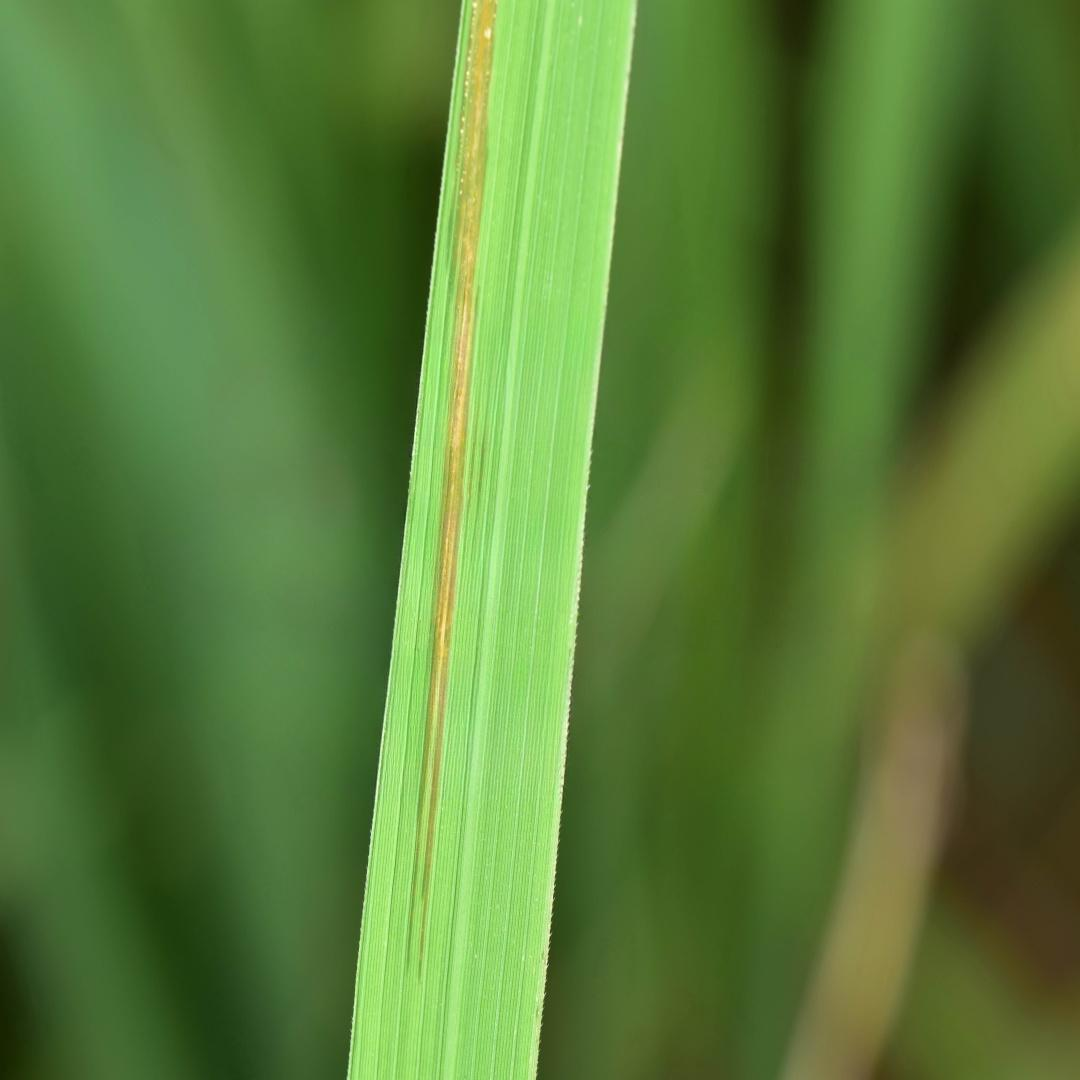BLS: (413, 1, 496, 984)
LEAF: (349, 0, 635, 1079)
